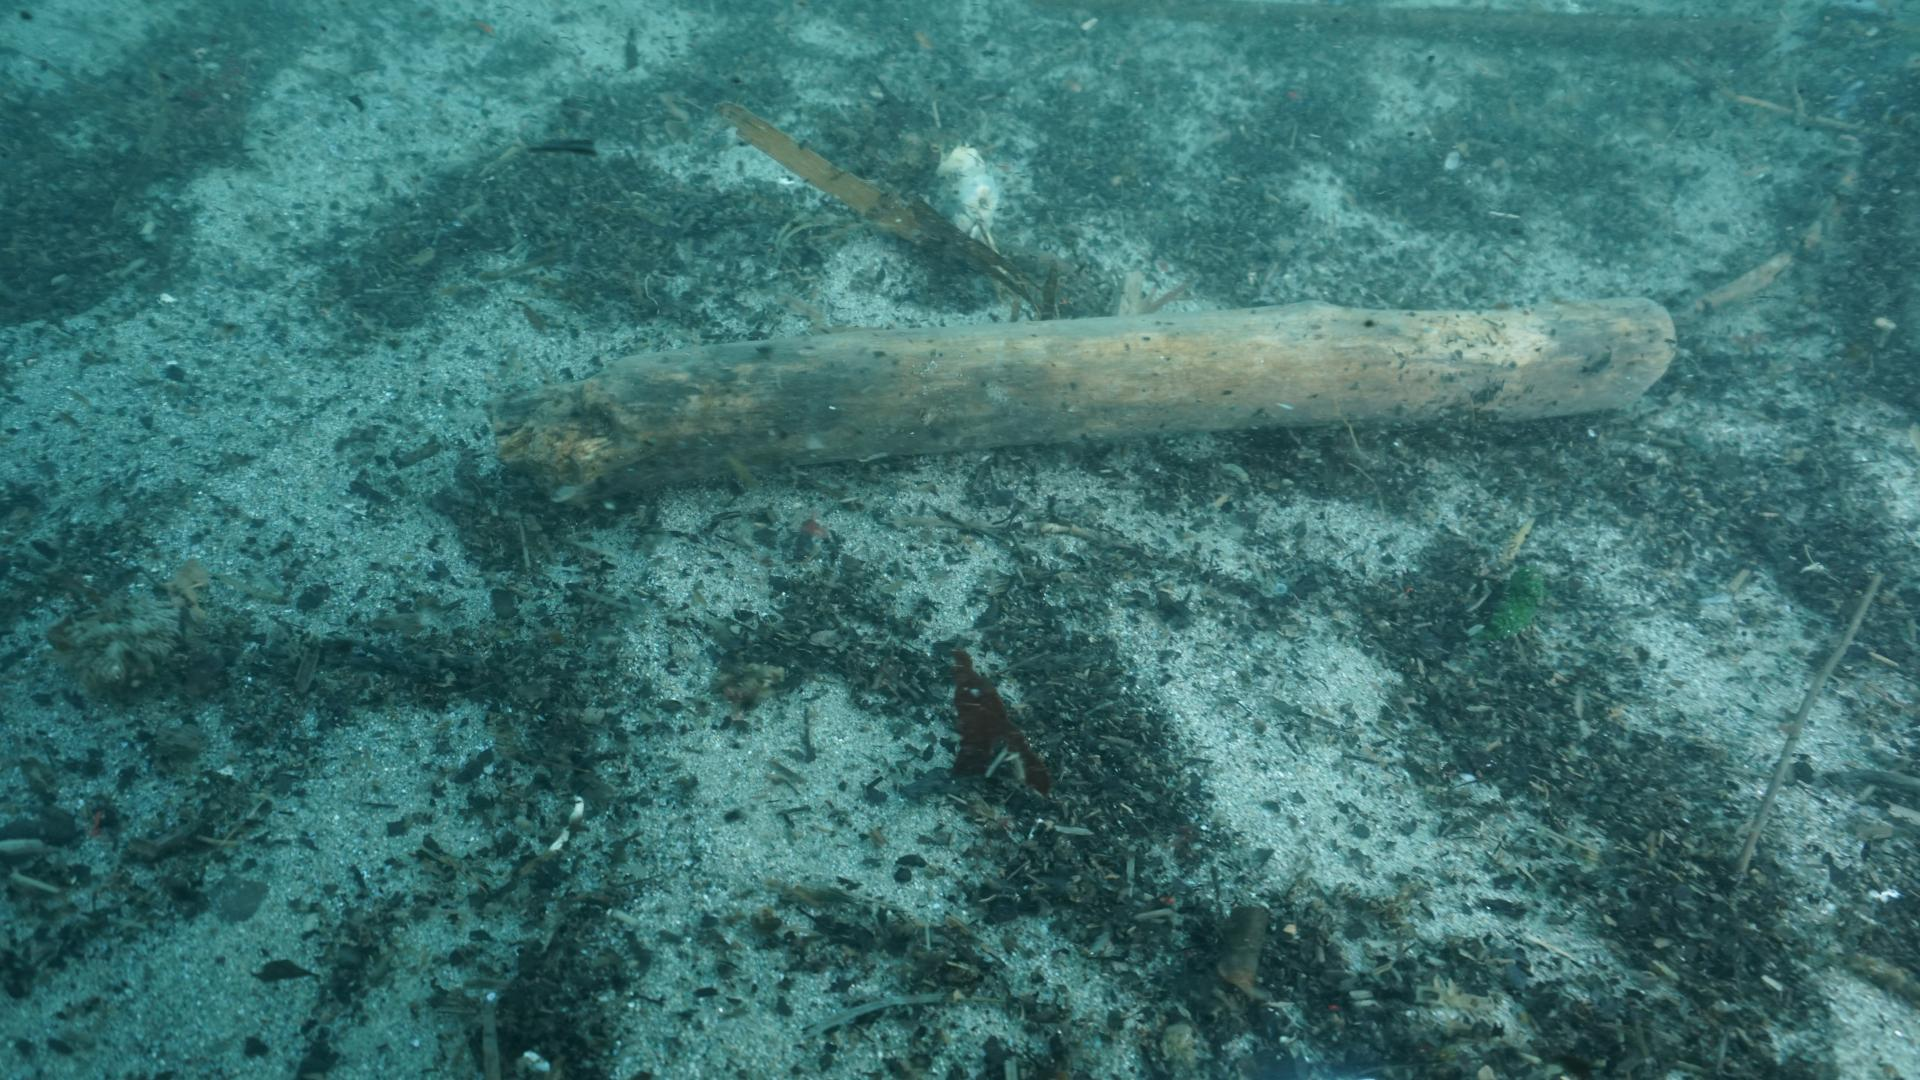wood: (489, 293, 1677, 502)
